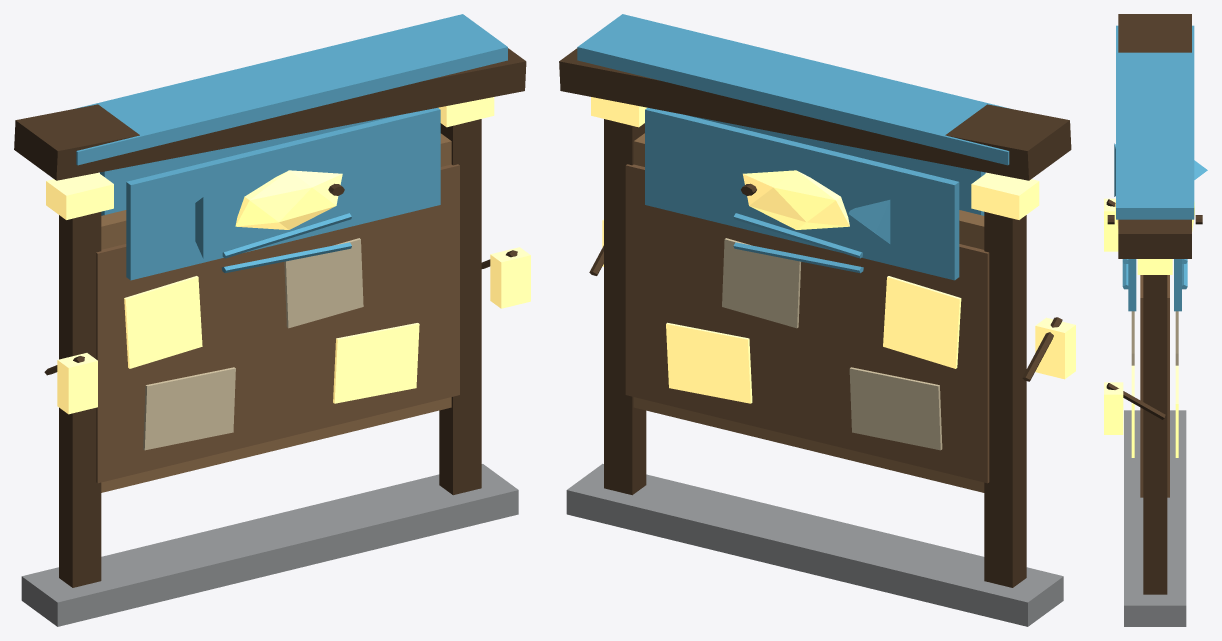
Rendered from request_board_fishing.lod1.glb.
3 views of the same model, side by side, from view 1: azimuth 30°, elevation 25°; view 2: azimuth 150°, elevation 25°; view 3: azimuth 270°, elevation 25° (orthographic). The views are drawn at different scales.
Bounding box in the file's own units: 6.6 × 6.43 × 1.46.
